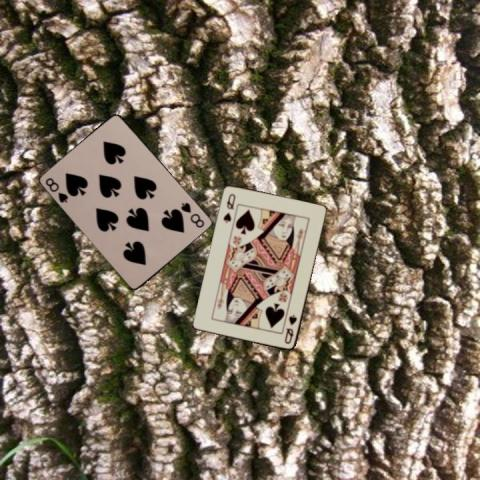8s: (178, 200, 206, 230), (43, 174, 70, 204)
Qs: (281, 312, 299, 345), (220, 191, 236, 224)
